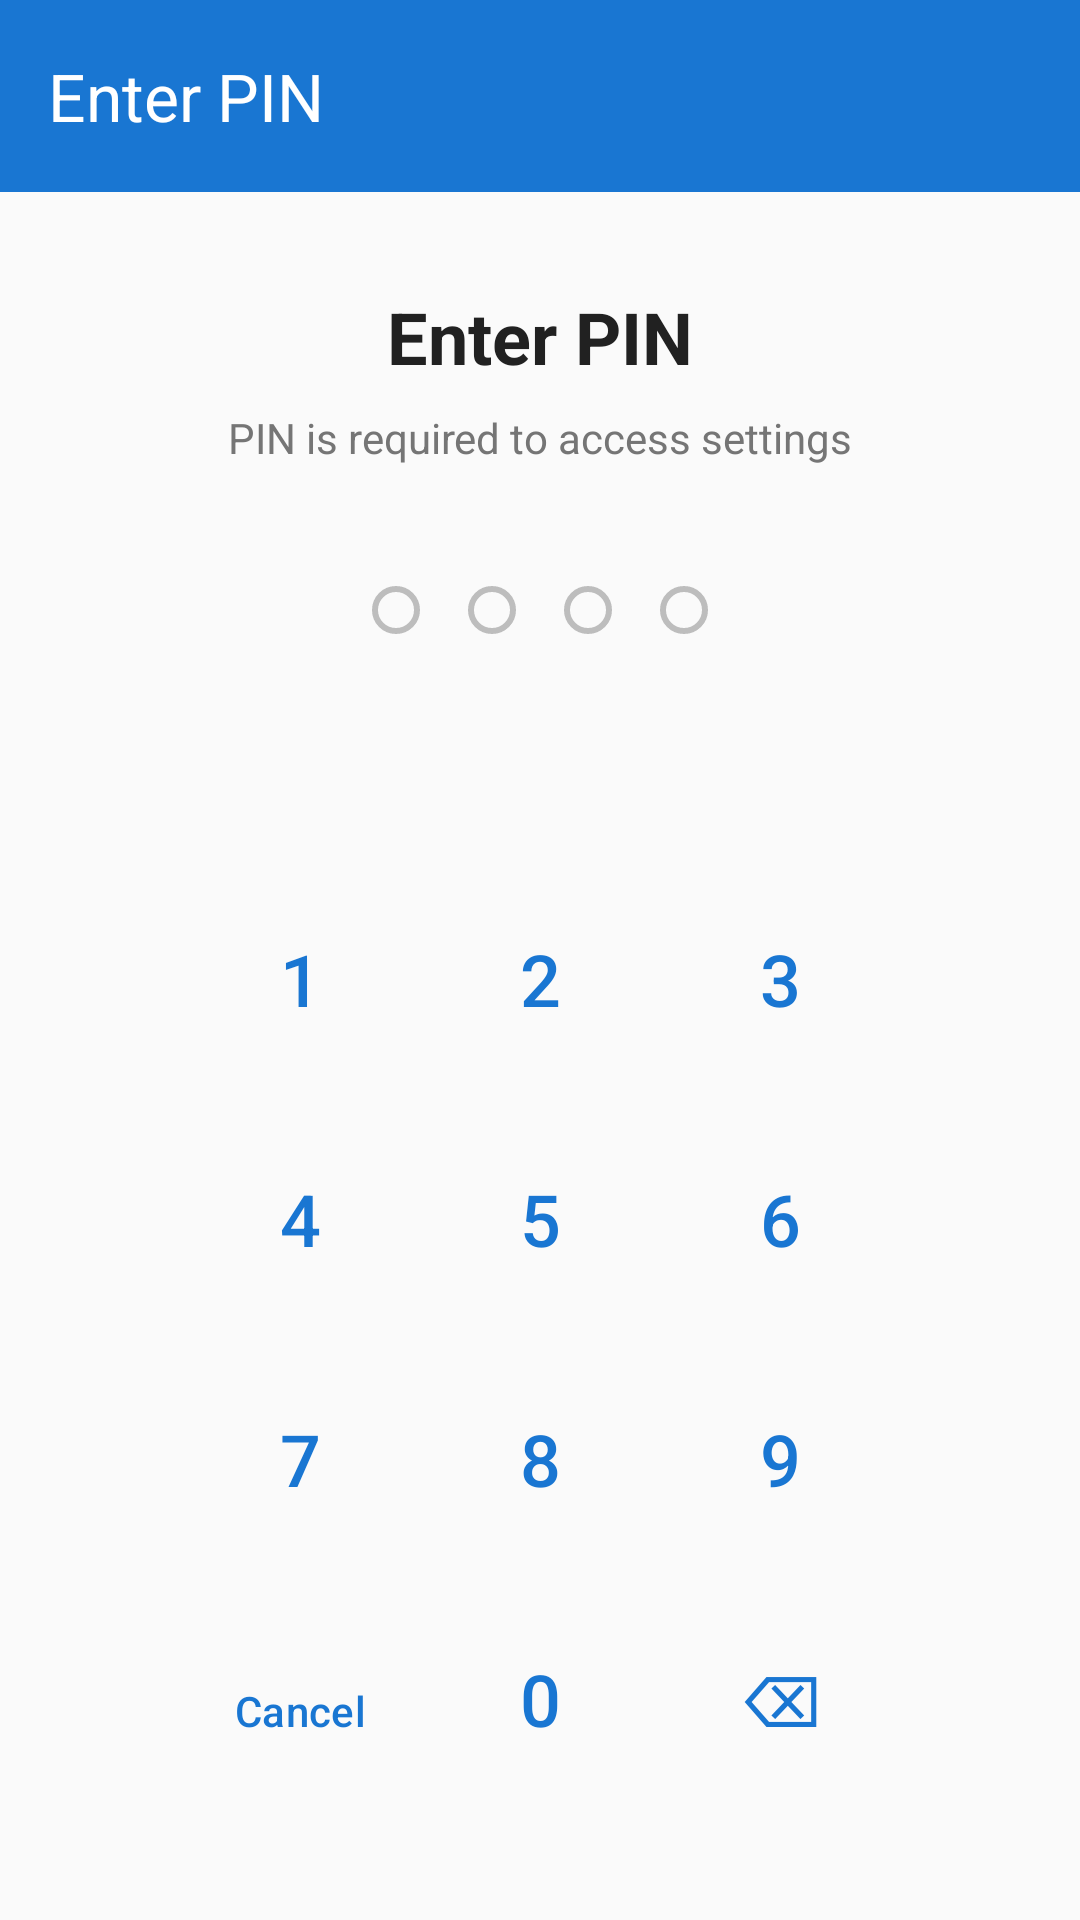

Named icons in this screenshot (1080px x 1920px) and their centers, point (x, y):
pin dot empty: point (396, 610), point (492, 610), point (588, 610), point (684, 610)
